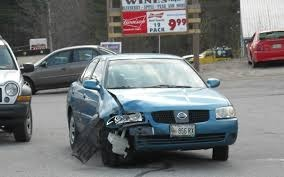Broken-glass: (109, 112, 146, 129)
Smashed: (84, 101, 147, 166)
